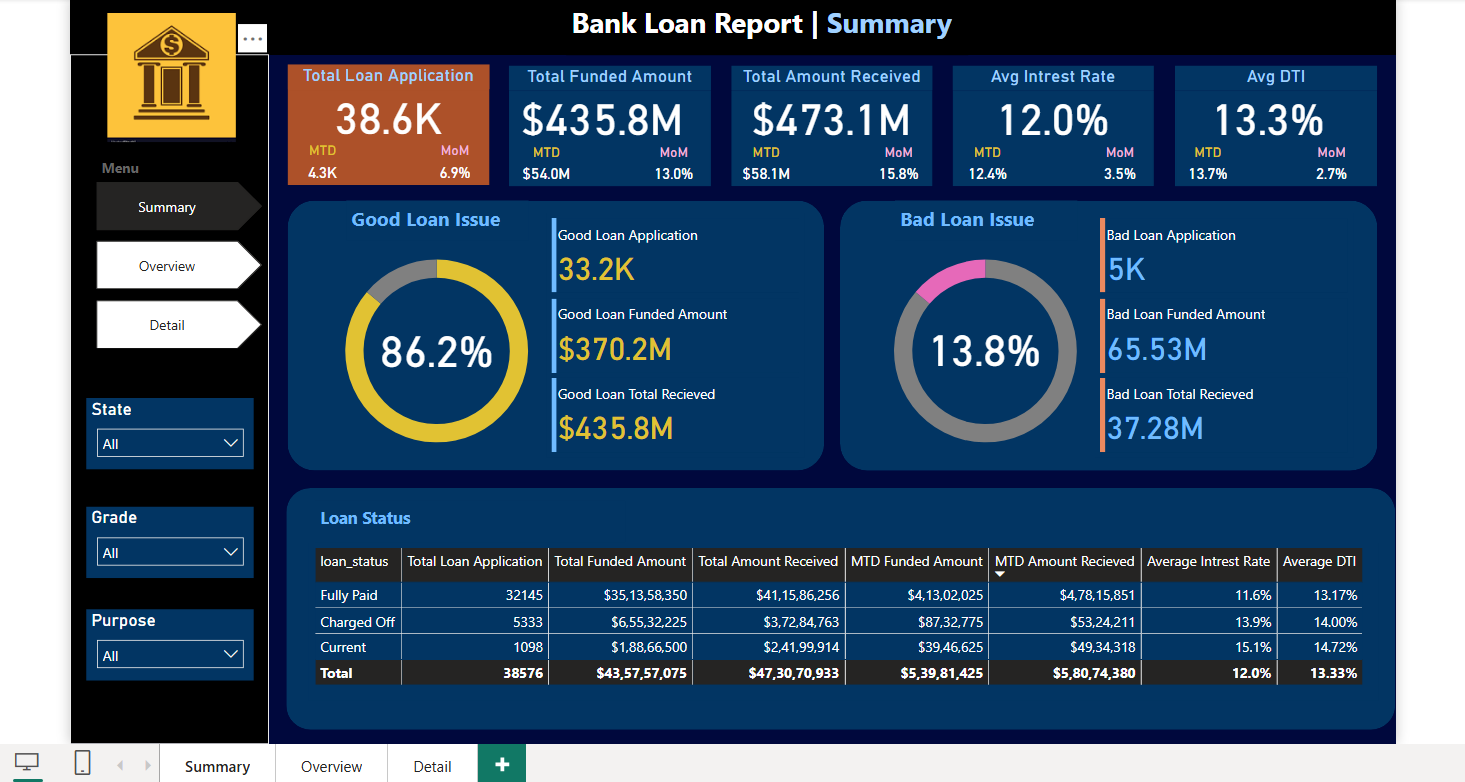

The page's visual inventory and layout, read from the dashboard file:
{"tool":"powerbi","page":{"name":"Summary","canvas":[1280,720],"ordinal":0},"visuals":[{"type":"shape","box":[0,0,1280.3,55],"z":0},{"type":"pageNavigator","box":[25.1,177.4,160.5,161.9],"z":0,"group":"g9"},{"type":"shape","box":[0,54.9,192.1,665.5],"z":1000},{"type":"textbox","box":[25.1,150,75.5,27.4],"z":1000,"group":"g9"},{"type":"textbox","box":[478.9,0,388.3,54.9],"z":2000},{"type":"image","box":[10,10,177,134.5],"z":2000,"group":"g9"},{"type":"group","id":"g1","title":"Group 1","box":[210,64,195.4,117],"z":3000,"group":"g8"},{"type":"shape","title":"Total Loan Application","box":[210.5,64,194.9,116.6],"z":3000,"group":"g1"},{"type":"shape","title":"Avg Intrest Rate","box":[852.5,65,194.2,116.6],"z":3000,"group":"g3"},{"type":"shape","title":"Total Funded Amount","box":[424,65.1,195,117],"z":3000,"group":"g4"},{"type":"shape","title":"Total Amount Received","box":[638.5,65.1,194.2,116.6],"z":3000,"group":"g2"},{"type":"shape","title":"Avg DTI","box":[1066.6,65.1,195,117],"z":3000,"group":"g5"},{"type":"group","id":"g2","title":"Group 1","box":[638,65.1,195.4,117],"z":4000,"group":"g8"},{"type":"card","fields":{"Values":["Table.Total Loan Application"]},"box":[229.3,91.7,156.8,48.3],"z":4000,"group":"g1"},{"type":"card","fields":{"Values":["Table.Average Intrest Rate"]},"box":[852.6,92.7,191.2,48.3],"z":4000,"group":"g3"},{"type":"card","fields":{"Values":["Table.Total Funded Amount"]},"box":[424,92.8,180.8,48.3],"z":4000,"group":"g4"},{"type":"card","fields":{"Values":["Table.Total Amount Received"]},"box":[638.6,92.8,191.2,48.3],"z":4000,"group":"g2"},{"type":"card","fields":{"Values":["Table.Average DTI"]},"box":[1066.6,92.9,179.4,48.3],"z":4000,"group":"g5"},{"type":"group","id":"g3","title":"Group 1","box":[852,65,195.4,117],"z":5000,"group":"g8"},{"type":"card","title":"MTD","fields":{"Values":["Table.MTD Loan Application"]},"box":[210,139.9,67.6,41],"z":5000,"group":"g1"},{"type":"card","title":"MTD","fields":{"Values":["Table.MTD Average Intrest Rate"]},"box":[852,140.9,67.3,41],"z":5000,"group":"g3"},{"type":"card","title":"MTD","fields":{"Values":["Table.MTD Total Amount Recieved"]},"box":[638,141,67.3,41],"z":5000,"group":"g2"},{"type":"card","title":"MTD","fields":{"Values":["Table.MTD TOtal Funded Amount"]},"box":[424,141.1,72.3,41],"z":5000,"group":"g4"},{"type":"card","title":"MTD","fields":{"Values":["Table.MTD Average DTI"]},"box":[1066,141.1,63.2,41],"z":5000,"group":"g5"},{"type":"group","id":"g4","title":"Group 2","box":[424,65.1,195,117],"z":6000,"group":"g8"},{"type":"card","title":"MoM","fields":{"Values":["Table.MOM Loan Application"]},"box":[337.9,139.9,67.6,41],"z":6000,"group":"g1"},{"type":"card","title":"MoM","fields":{"Values":["Table.MOM Average Intrest Rate"]},"box":[979.5,140.9,67.3,41],"z":6000,"group":"g3"},{"type":"card","title":"MoM","fields":{"Values":["Table.MOM Amount Recived"]},"box":[765.5,141,67.3,41],"z":6000,"group":"g2"},{"type":"card","title":"MoM","fields":{"Values":["Table.MOM Funded Amount"]},"box":[546.7,141.1,72.3,41],"z":6000,"group":"g4"},{"type":"card","title":"MoM","fields":{"Values":["Table.MOM Average DTI"]},"box":[1185.6,141.1,63.2,41],"z":6000,"group":"g5"},{"type":"group","id":"g5","title":"Group 1","box":[1066,65.1,195.6,117],"z":7000,"group":"g8"},{"type":"shape","box":[209.9,196,518,260.6],"z":8000,"group":"g7"},{"type":"slicer","title":"State","fields":{"Values":["Financial_loan.address_state"]},"box":[15.1,385.6,161.9,68.6],"z":9000},{"type":"donutChart","fields":{"Category":["Financial_loan.Good vs Bad Loan"],"Y":["Table.Total Loan Application"]},"box":[229.1,226.5,249.7,230.5],"z":10000,"group":"g7"},{"type":"card","fields":{"Values":["Table.Good Loan %"]},"box":[293.6,297.8,122.1,87.8],"z":11000,"group":"g7"},{"type":"cardVisual","fields":{"Data":["Table.Good Loan Application","Table.Good Loan Funded Amount","Table.Good Loan Total Recieved"]},"box":[459.7,208.6,249.7,236],"z":12000,"group":"g7"},{"type":"textbox","box":[266.2,196.3,175.6,38.4],"z":13000,"group":"g7"},{"type":"shape","box":[743.7,196.2,518.7,260.7],"z":14000,"group":"g6"},{"type":"donutChart","fields":{"Category":["Financial_loan.Good vs Bad Loan"],"Y":["Table.Total Loan Application"]},"box":[759.5,226.2,249.7,230.5],"z":15000,"group":"g6"},{"type":"cardVisual","fields":{"Data":["Table.Bad Loan Application","Table.Bad Loan Funded Amount","Table.Bad Loan Total Recieved"]},"box":[990,208.3,249.7,236],"z":16000,"group":"g6"},{"type":"textbox","box":[796.5,196,175.6,38.4],"z":17000,"group":"g6"},{"type":"card","fields":{"Values":["Table.Bad Loan %"]},"box":[821.9,296.3,122.1,87.8],"z":18000,"group":"g6"},{"type":"shape","box":[208.6,473.4,1070.3,233.3],"z":19000},{"type":"tableEx","fields":{"Values":["Financial_loan.loan_status","Table.Total Loan Application","Table.Total Funded Amount","Table.Total Amount Received","Table.MTD TOtal Funded Amount","Table.MTD Total Amount Recieved","Table.Average Intrest Rate","Table.Average DTI"]},"box":[230.5,525.6,1031.9,152.3],"z":20000},{"type":"textbox","box":[236,484.4,299.1,41.2],"z":20001},{"type":"group","id":"g6","title":"Group 3","box":[743.7,196,518.7,260.9],"z":20002},{"type":"group","id":"g7","title":"Group 4","box":[209.9,196,518,261],"z":20003},{"type":"slicer","title":"Grade","fields":{"Values":["Financial_loan.grade"]},"box":[15.1,491.3,161.9,68.6],"z":20004},{"type":"slicer","title":"Purpose","fields":{"Values":["Financial_loan.purpose"]},"box":[15.1,590.1,161.9,68.6],"z":20005},{"type":"group","id":"g8","title":"Group 5","box":[210,64,1051.6,118.2],"z":20006},{"type":"group","id":"g9","title":"Group 3","box":[10,10,177,329.3],"z":20007}]}

Visuals, with their boxes on the page's 1280x720 design canvas (x1, y1, x2, y2). These are canvas units, not pixel positions in the 1465x782 screenshot, which may show the page scaled, cropped or inside an application window:
shape: (0, 0, 1280, 55)
pageNavigator: (25, 177, 186, 339)
shape: (0, 55, 192, 720)
textbox: (25, 150, 101, 177)
textbox: (479, 0, 867, 55)
image: (10, 10, 187, 144)
"Group 1" group: (210, 64, 405, 181)
"Total Loan Application" shape: (210, 64, 405, 181)
"Avg Intrest Rate" shape: (852, 65, 1047, 182)
"Total Funded Amount" shape: (424, 65, 619, 182)
"Total Amount Received" shape: (638, 65, 833, 182)
"Avg DTI" shape: (1067, 65, 1262, 182)
"Group 1" group: (638, 65, 833, 182)
card - Table.Total Loan Application: (229, 92, 386, 140)
card - Table.Average Intrest Rate: (853, 93, 1044, 141)
card - Table.Total Funded Amount: (424, 93, 605, 141)
card - Table.Total Amount Received: (639, 93, 830, 141)
card - Table.Average DTI: (1067, 93, 1246, 141)
"Group 1" group: (852, 65, 1047, 182)
"MTD" card: (210, 140, 278, 181)
"MTD" card: (852, 141, 919, 182)
"MTD" card: (638, 141, 705, 182)
"MTD" card: (424, 141, 496, 182)
"MTD" card: (1066, 141, 1129, 182)
"Group 2" group: (424, 65, 619, 182)
"MoM" card: (338, 140, 406, 181)
"MoM" card: (980, 141, 1047, 182)
"MoM" card: (766, 141, 833, 182)
"MoM" card: (547, 141, 619, 182)
"MoM" card: (1186, 141, 1249, 182)
"Group 1" group: (1066, 65, 1262, 182)
shape: (210, 196, 728, 457)
"State" slicer: (15, 386, 177, 454)
donutChart - Financial_loan.Good vs Bad Loan x Table.Total Loan Application: (229, 226, 479, 457)
card - Table.Good Loan %: (294, 298, 416, 386)
cardVisual - Table.Good Loan Application x Table.Good Loan Funded Amount: (460, 209, 709, 445)
textbox: (266, 196, 442, 235)
shape: (744, 196, 1262, 457)
donutChart - Financial_loan.Good vs Bad Loan x Table.Total Loan Application: (760, 226, 1009, 457)
cardVisual - Table.Bad Loan Application x Table.Bad Loan Funded Amount: (990, 208, 1240, 444)
textbox: (796, 196, 972, 234)
card - Table.Bad Loan %: (822, 296, 944, 384)
shape: (209, 473, 1279, 707)
tableEx - Financial_loan.loan_status x Table.Total Loan Application: (230, 526, 1262, 678)
textbox: (236, 484, 535, 526)
"Group 3" group: (744, 196, 1262, 457)
"Group 4" group: (210, 196, 728, 457)
"Grade" slicer: (15, 491, 177, 560)
"Purpose" slicer: (15, 590, 177, 659)
"Group 5" group: (210, 64, 1262, 182)
"Group 3" group: (10, 10, 187, 339)
